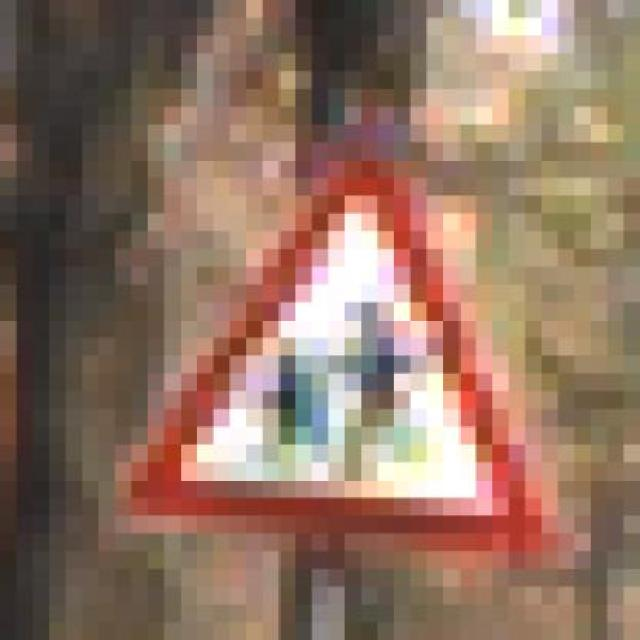Beware of children: (131, 142, 558, 569)
